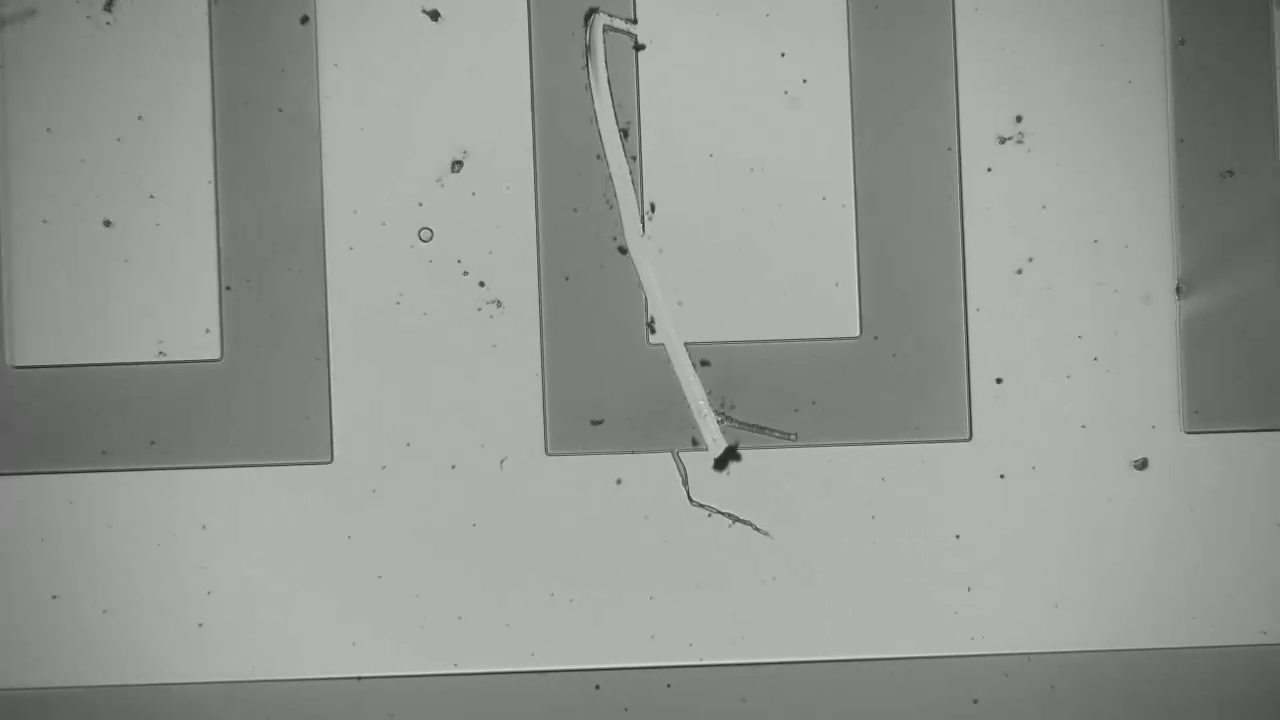Short_circuit: (657, 316, 757, 487)
